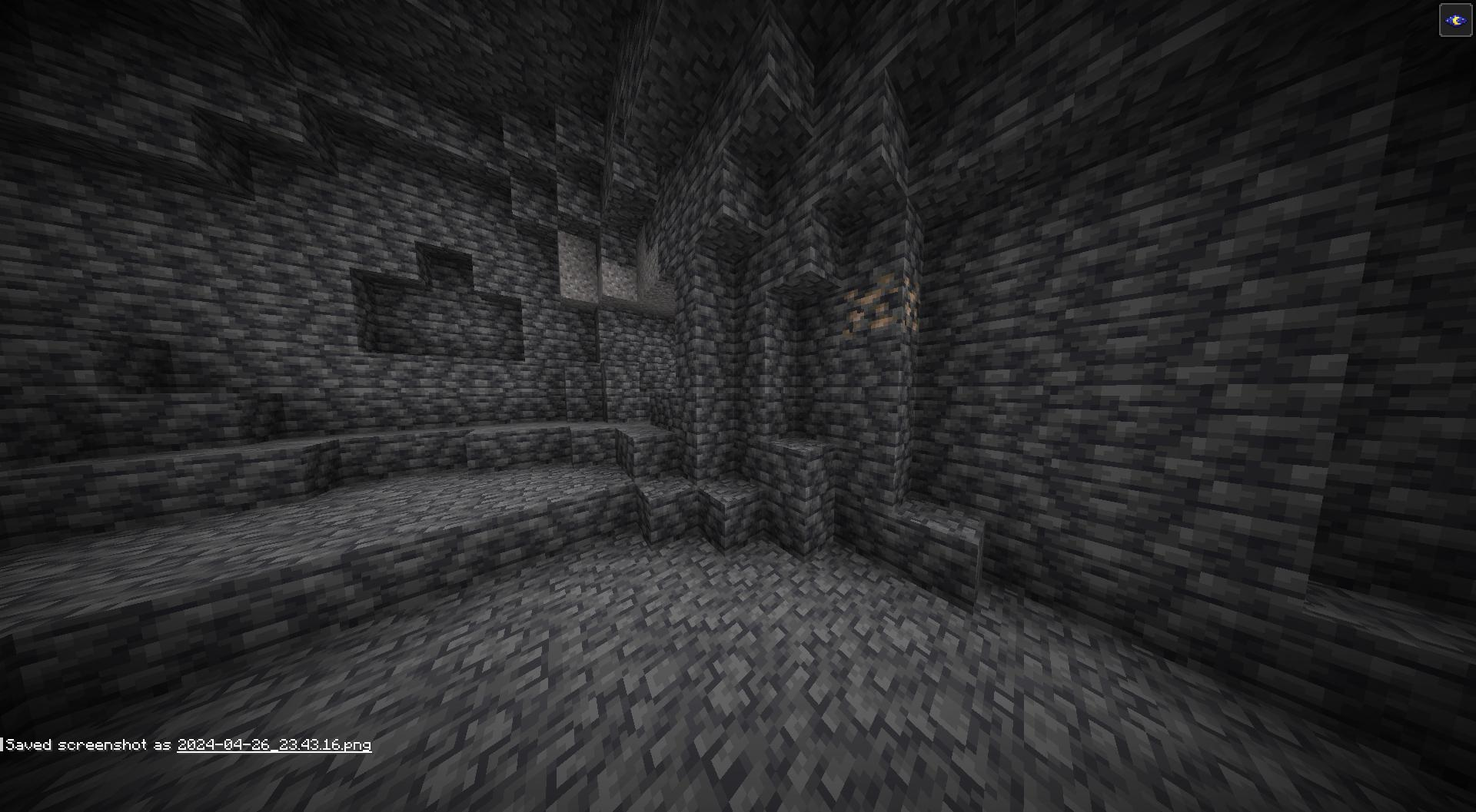iron ore: (841, 269, 931, 345)
